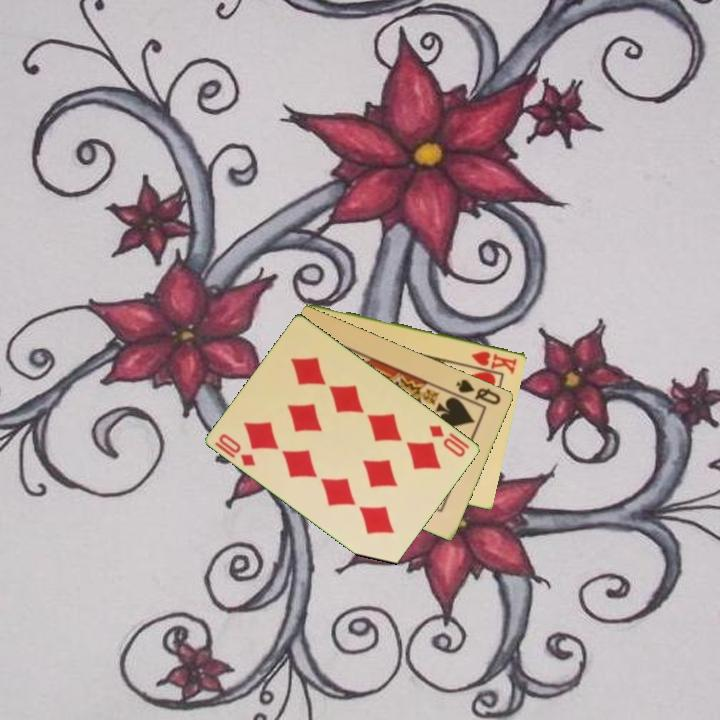10d: (212, 430, 259, 469), (426, 421, 469, 460)
Kh: (468, 347, 520, 376)
Qs: (453, 375, 504, 408)
